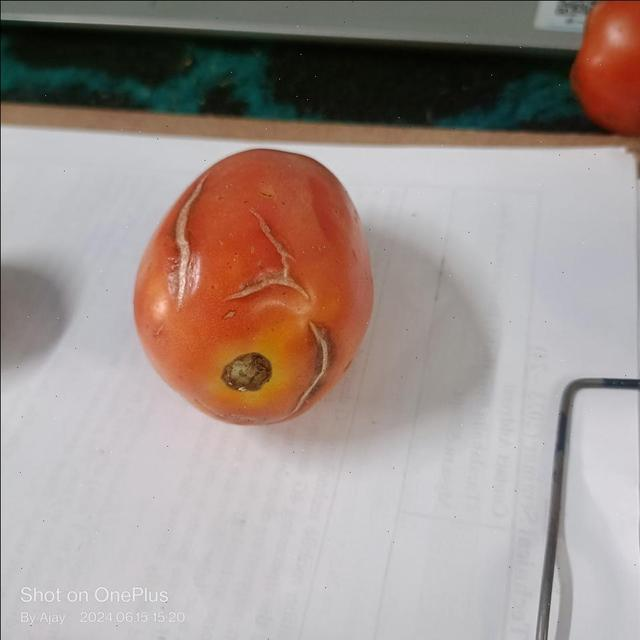Cracking Fruit: (127, 146, 189, 273)
